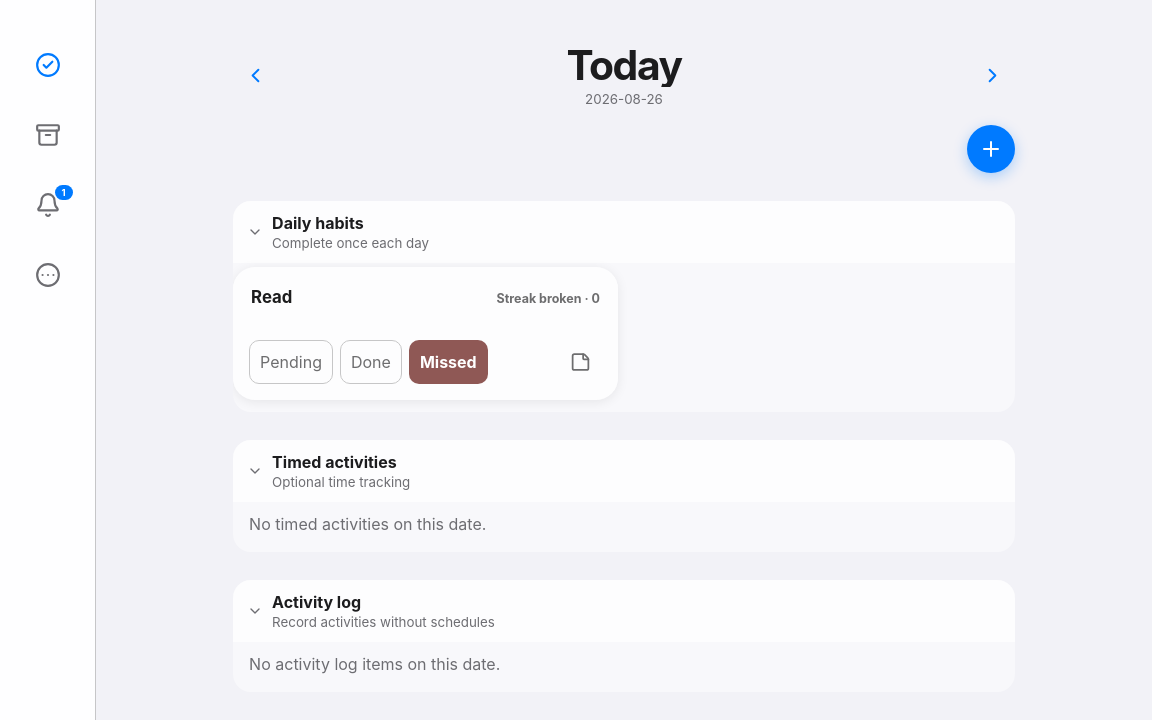
it: Habit Tracker › keeps the broken streak state after reloading Today and does not apply it to historical days
expect the heading "Today" is shown: met, box x1=566 y1=40 x2=682 y2=90
expect the text "Streak broken · 0" is shown: met, box x1=497 y1=291 x2=600 y2=306
Click the button named "Previous day" at (255, 75), box x1=233 y1=53 x2=277 y2=97
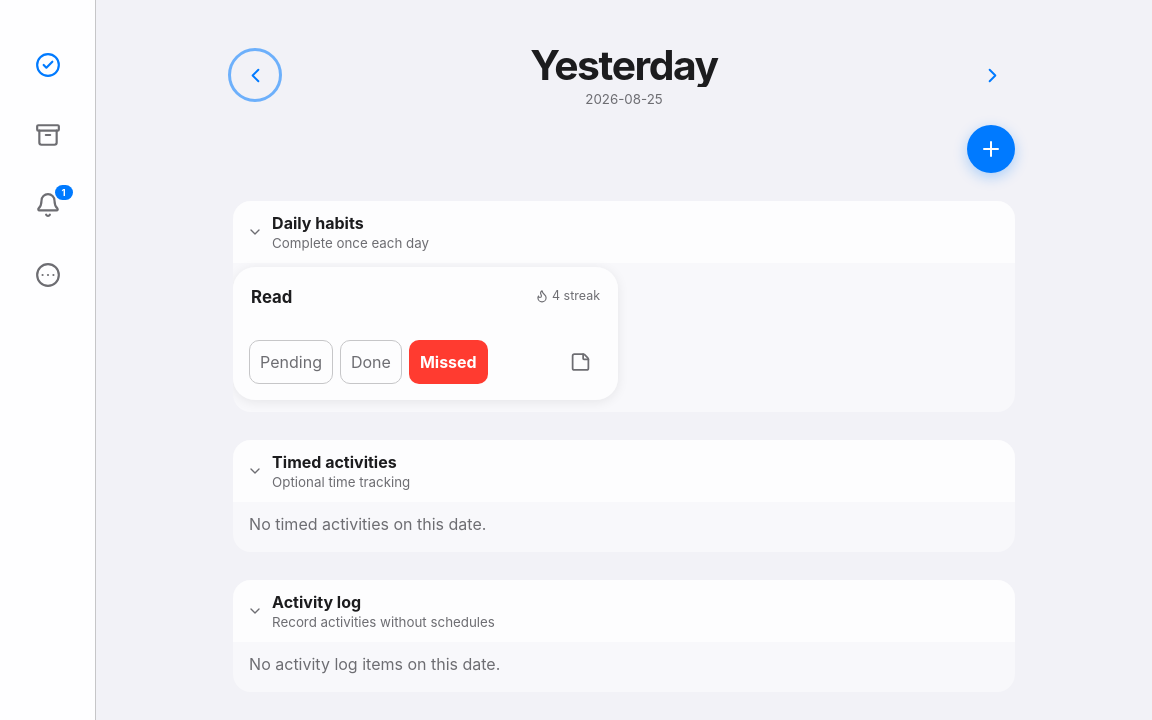
expect the heading "Yesterday" is shown: met, box x1=530 y1=40 x2=718 y2=90
expect the button "Streak broken · 0" is gone: met
